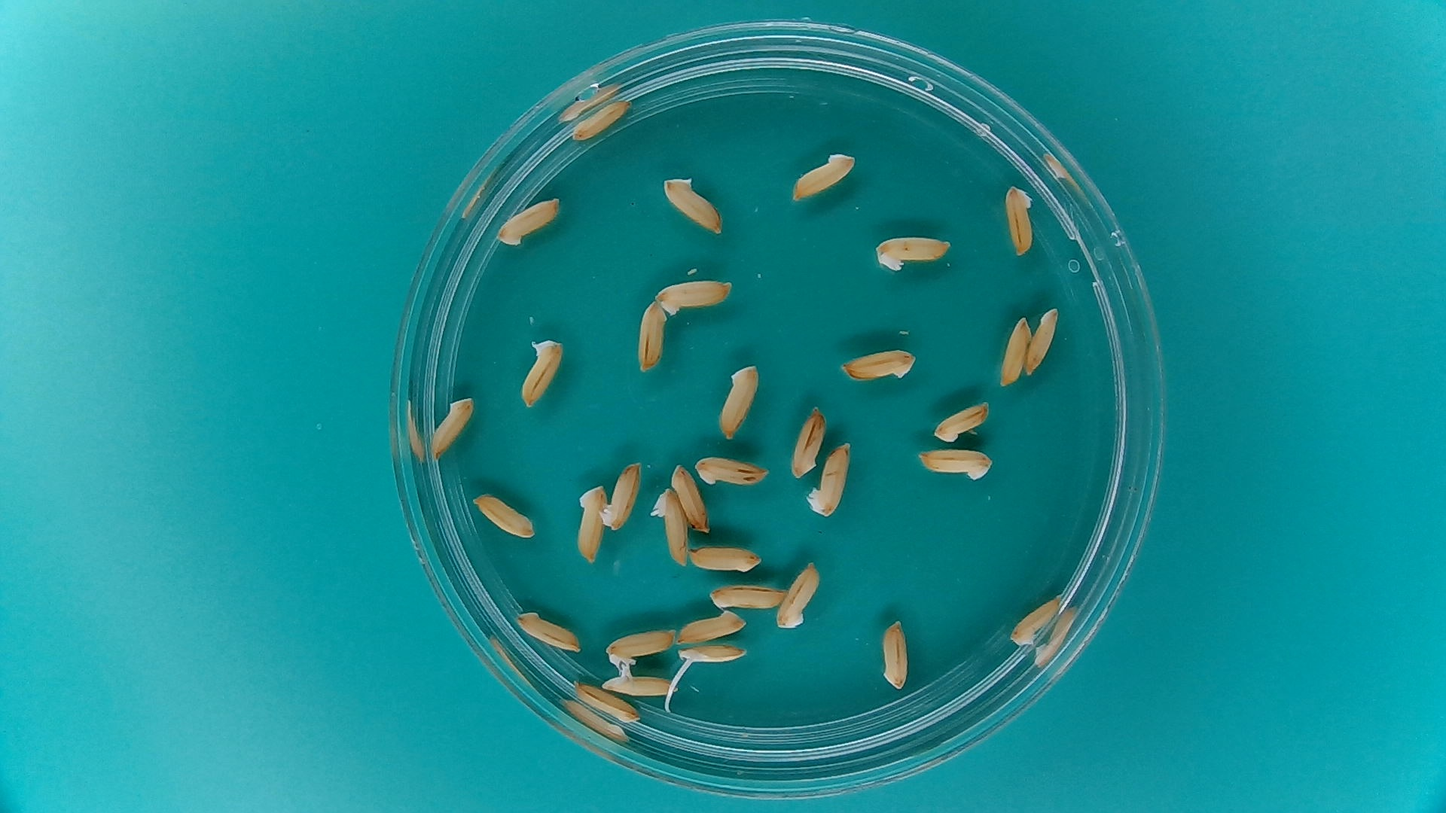no: (660, 173, 728, 236), (787, 148, 859, 205), (803, 440, 853, 522), (517, 333, 568, 412), (713, 360, 761, 442), (495, 193, 566, 248), (775, 556, 822, 632), (599, 456, 644, 534), (511, 608, 584, 655), (653, 276, 736, 317), (569, 678, 641, 724), (470, 490, 535, 540), (871, 233, 954, 272), (670, 459, 712, 534), (605, 624, 678, 667), (428, 394, 477, 458), (789, 401, 828, 480), (1007, 593, 1063, 647), (835, 346, 919, 382), (571, 95, 634, 142), (931, 399, 993, 445), (1023, 302, 1060, 379), (692, 453, 771, 488), (574, 480, 606, 566), (913, 446, 993, 480), (676, 607, 749, 644), (687, 540, 766, 574), (634, 297, 668, 376), (1003, 181, 1037, 257), (878, 615, 911, 692), (706, 582, 790, 612), (998, 313, 1031, 388)
yes: (595, 655, 677, 701), (651, 486, 691, 569), (674, 641, 746, 667)
